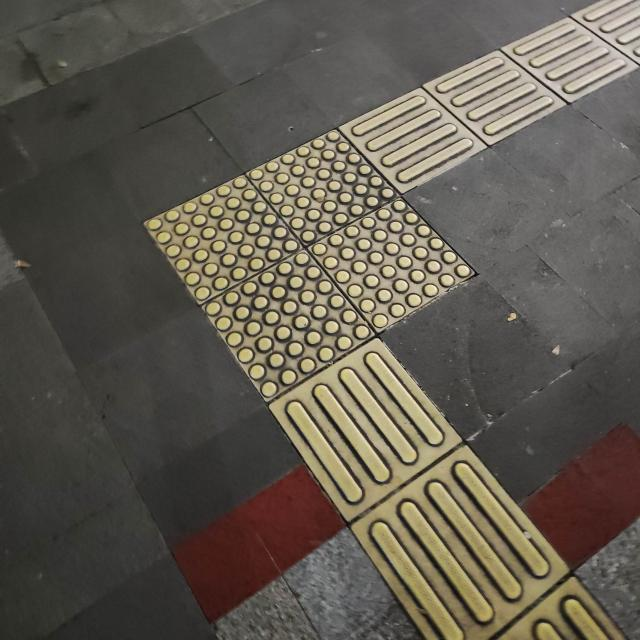kanan: (110, 82, 554, 400)
